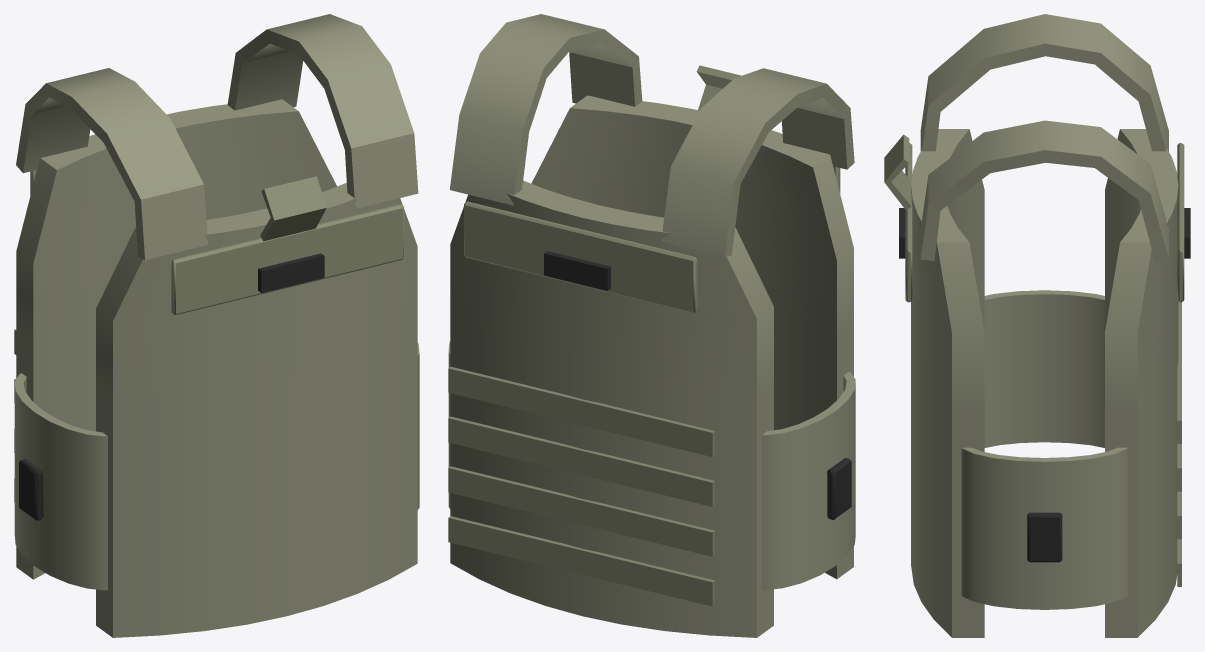
File: vest.glb
3 renders of one model, left to right at view 1: azimuth 30°, elevation 25°; view 2: azimuth 150°, elevation 25°; view 3: azimuth 270°, elevation 25°, orthographic. The views are drawn at different scales.
Parts seen in each view (by area): view 1: vest; view 2: vest; view 3: vest.
Part boxes in pixels (x1,y1,x2,y2): vest: [14, 14, 419, 637]; vest: [448, 14, 855, 637]; vest: [884, 14, 1190, 637].
Bounding box in the file's own units: 0.362 × 0.458 × 0.2625.
